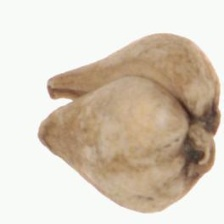L1: (37, 76, 88, 144), (182, 105, 221, 179)
L2: (37, 32, 221, 214)
